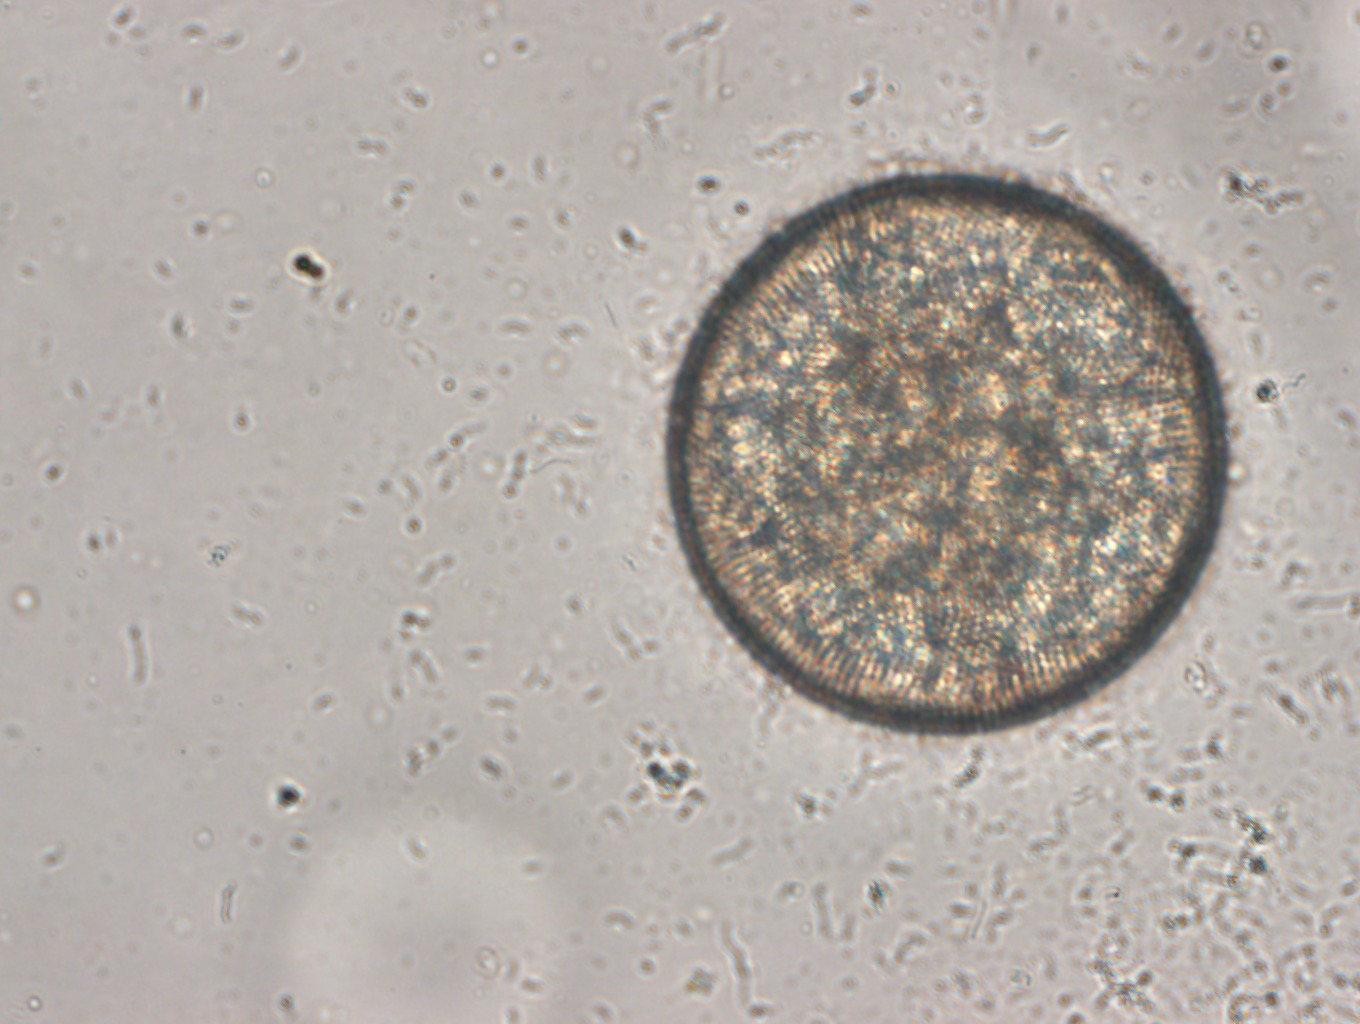coscinodiscus: (658, 161, 1235, 746)
